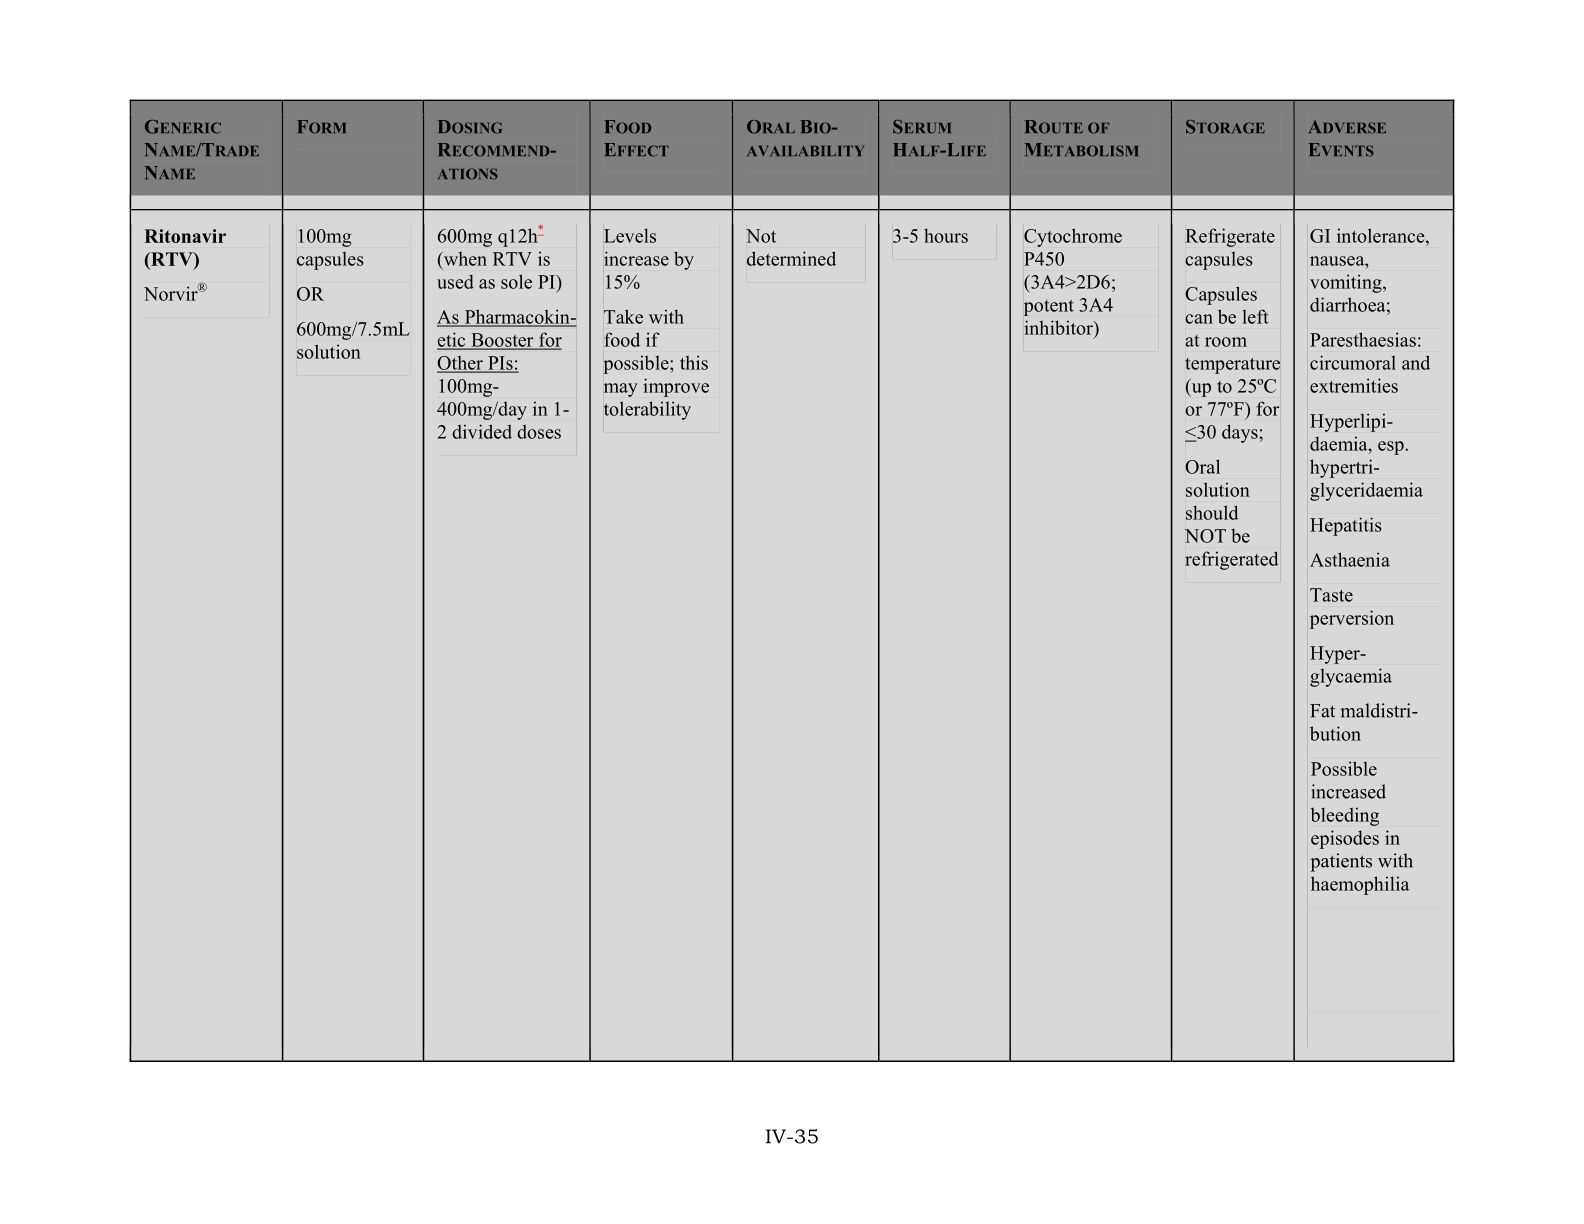full_lined: (129, 98, 1455, 1063)
